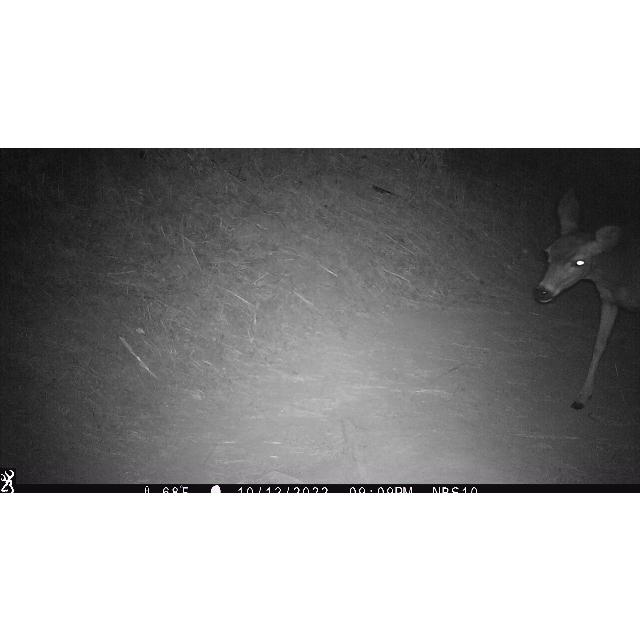animals: (534, 184, 640, 413)
